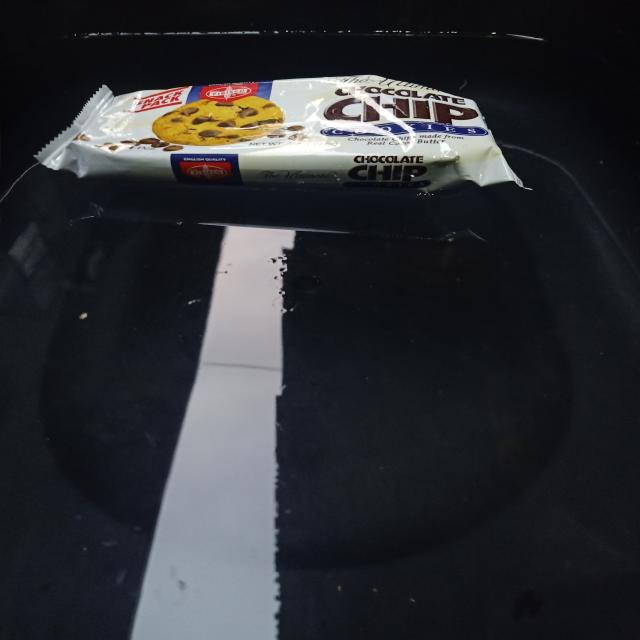Plastic Wrapper: (36, 75, 521, 190), (405, 147, 409, 152)
